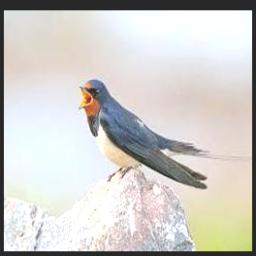Swallow: (79, 80, 209, 189)
